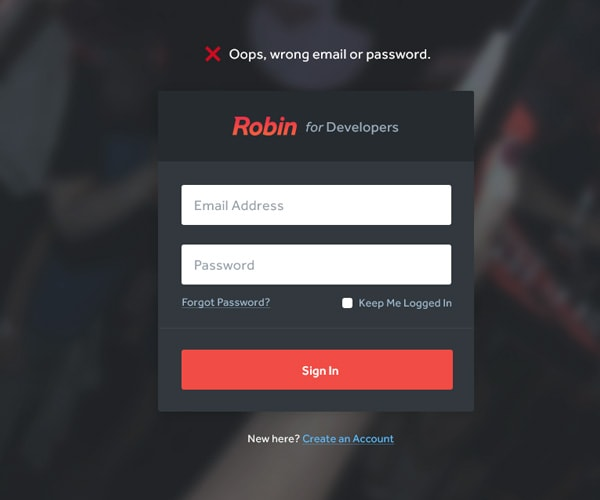_form_: (99, 60, 515, 476)
button: (180, 349, 454, 391)
checkbox: (341, 298, 355, 309)
checkbox_with_label: (341, 297, 453, 311)
field: (179, 243, 452, 287), (179, 184, 452, 226)
